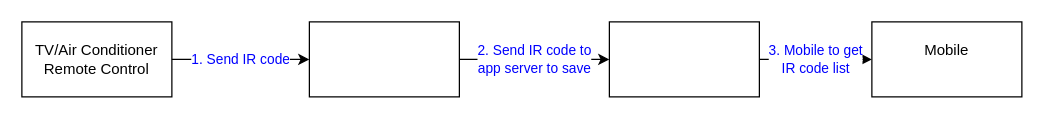
The diagram is 1044 pixels wide and 119 high, and some of its shapes have lost their labels. The centre of each missing label's shape, as x and y in pixels:
"App Server" goes at point (683, 59).
"Circuit" goes at point (383, 59).
